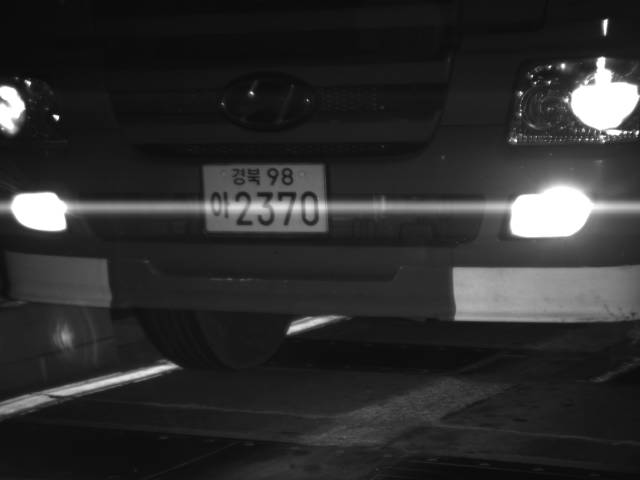car: (1, 1, 639, 374)
plate: (197, 161, 333, 235)
